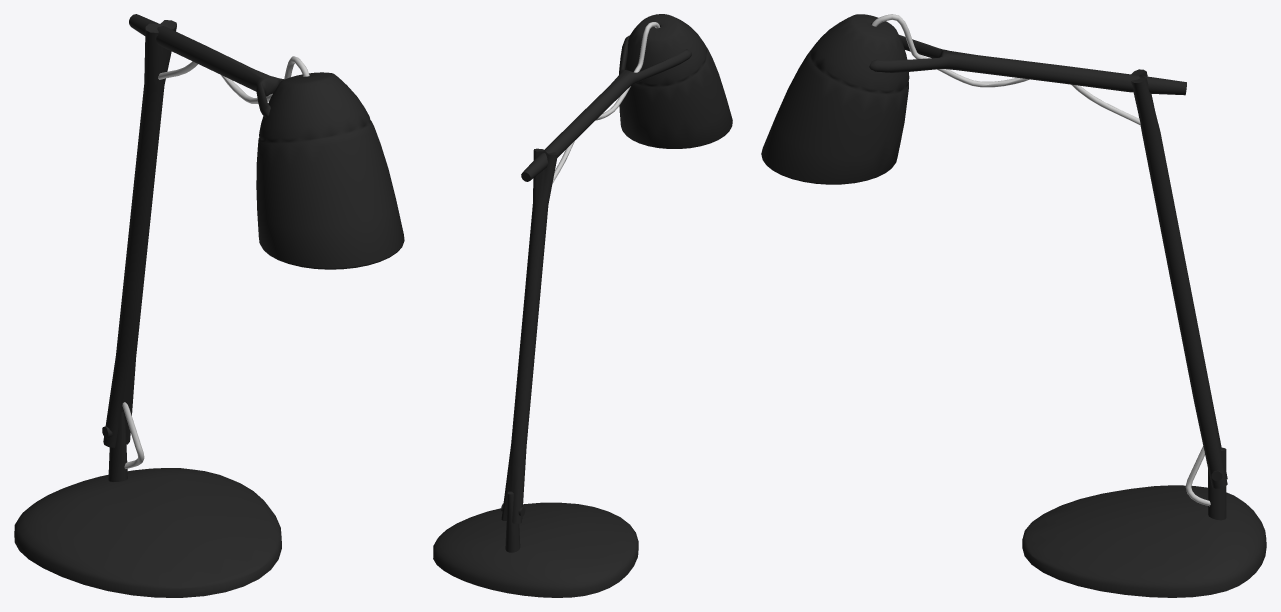
File: Lamp.FBX
3 renders of one model, left to right at view 1: azimuth 30°, elevation 25°; view 2: azimuth 150°, elevation 25°; view 3: azimuth 270°, elevation 25°, orthographic. The views are drawn at different scales.
Parts seen in each view (by area): view 1: Lamp; view 2: Lamp; view 3: Lamp.
Boxes of the visible parts, left/top/right/bottom form: Lamp: left=14, top=14, right=404, bottom=597; Lamp: left=433, top=14, right=732, bottom=597; Lamp: left=761, top=14, right=1266, bottom=597.
Size of the model in its own units: 12.62 by 31.07 by 26.68.
